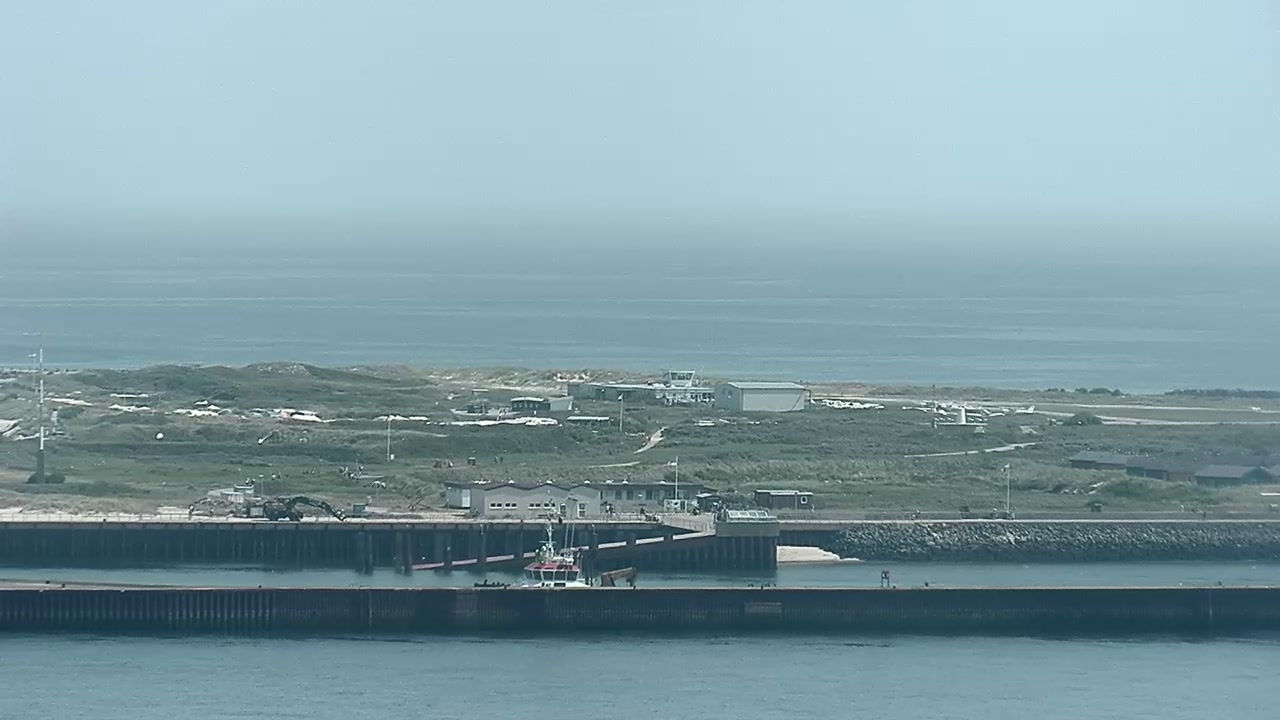human: (1008, 505, 1016, 519), (991, 505, 998, 519)
land: (262, 493, 348, 522)
sea: (469, 512, 637, 589), (448, 387, 520, 419)
